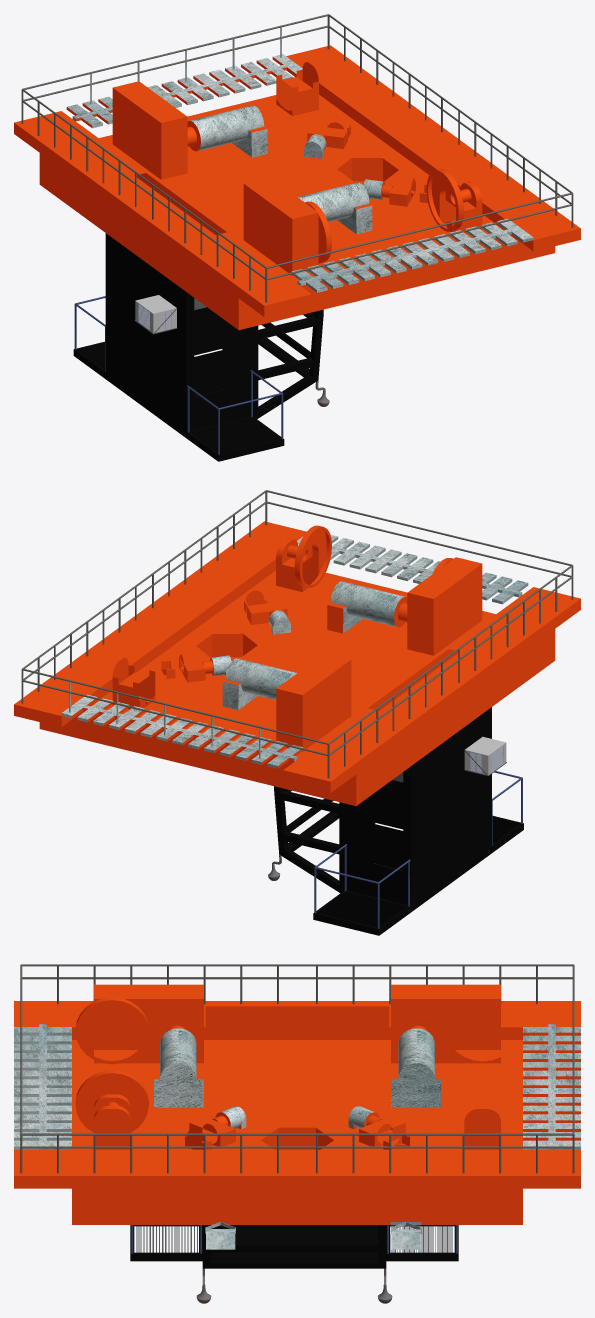
Rendered from Trolley.fbx.
The picture shows the model from 3 angles, top to bottom: view 1: azimuth 30°, elevation 25°; view 2: azimuth 150°, elevation 25°; view 3: azimuth 270°, elevation 25°; orthographic projection. The views are drawn at different scales.
Parts seen in each view (by area): view 1: Assembly_1548; view 2: Assembly_1548; view 3: Assembly_1548.
Boxes of the visible parts, x1=… form: Assembly_1548: x1=14, y1=14, x2=580, y2=461; Assembly_1548: x1=14, y1=490, x2=580, y2=935; Assembly_1548: x1=14, y1=964, x2=580, y2=1303.
Size of the model in its own units: 646 by 416 by 773.
